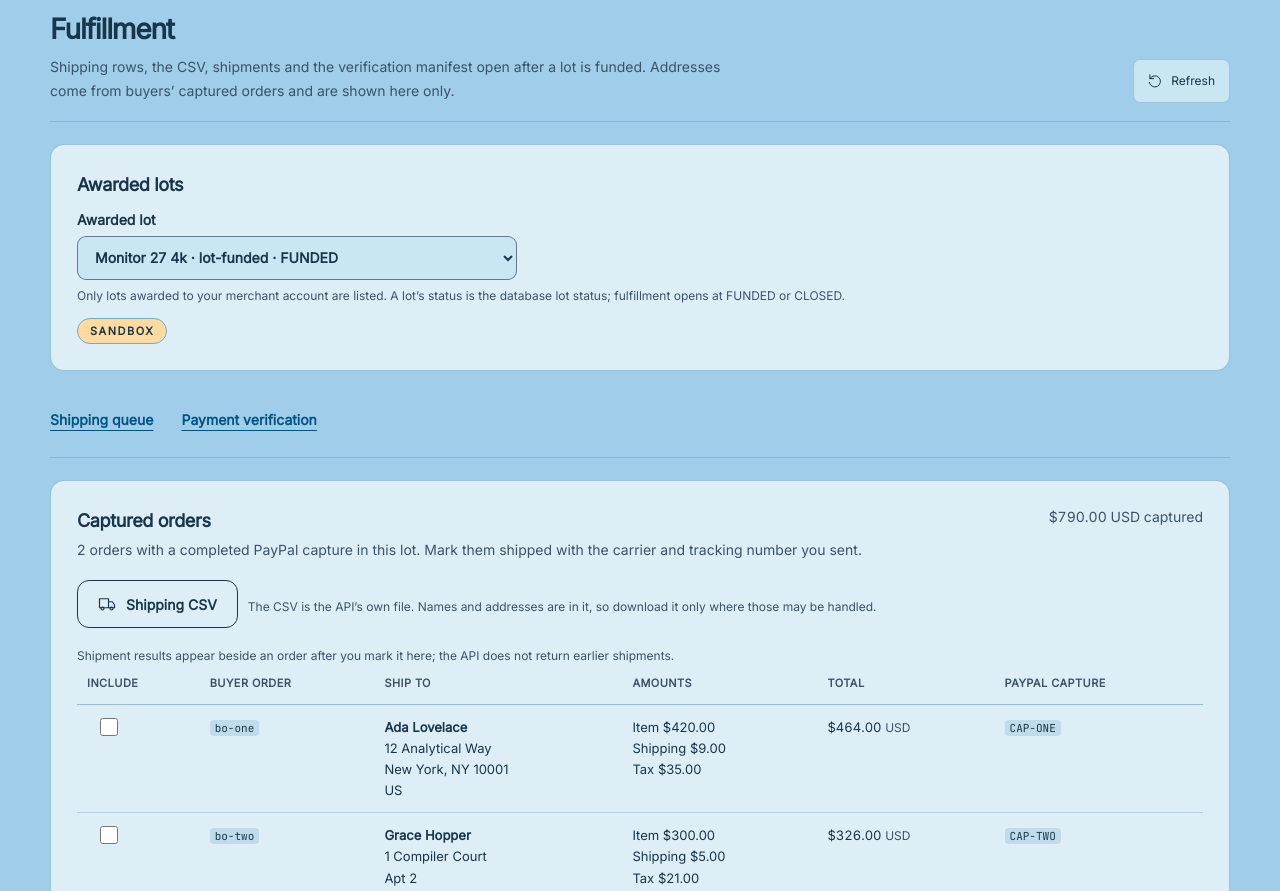
Test: Fulfillment tab › downloads the shipping CSV the API renders, asking for text/csv
expect the heading "Captured orders" is shown: met, box 77,510 -> 210,532
What coordinates should you click on to do the following:
click the button "Shipping CSV"
I would click on:
 (157, 604)
Its box is 77,580 -> 238,628.
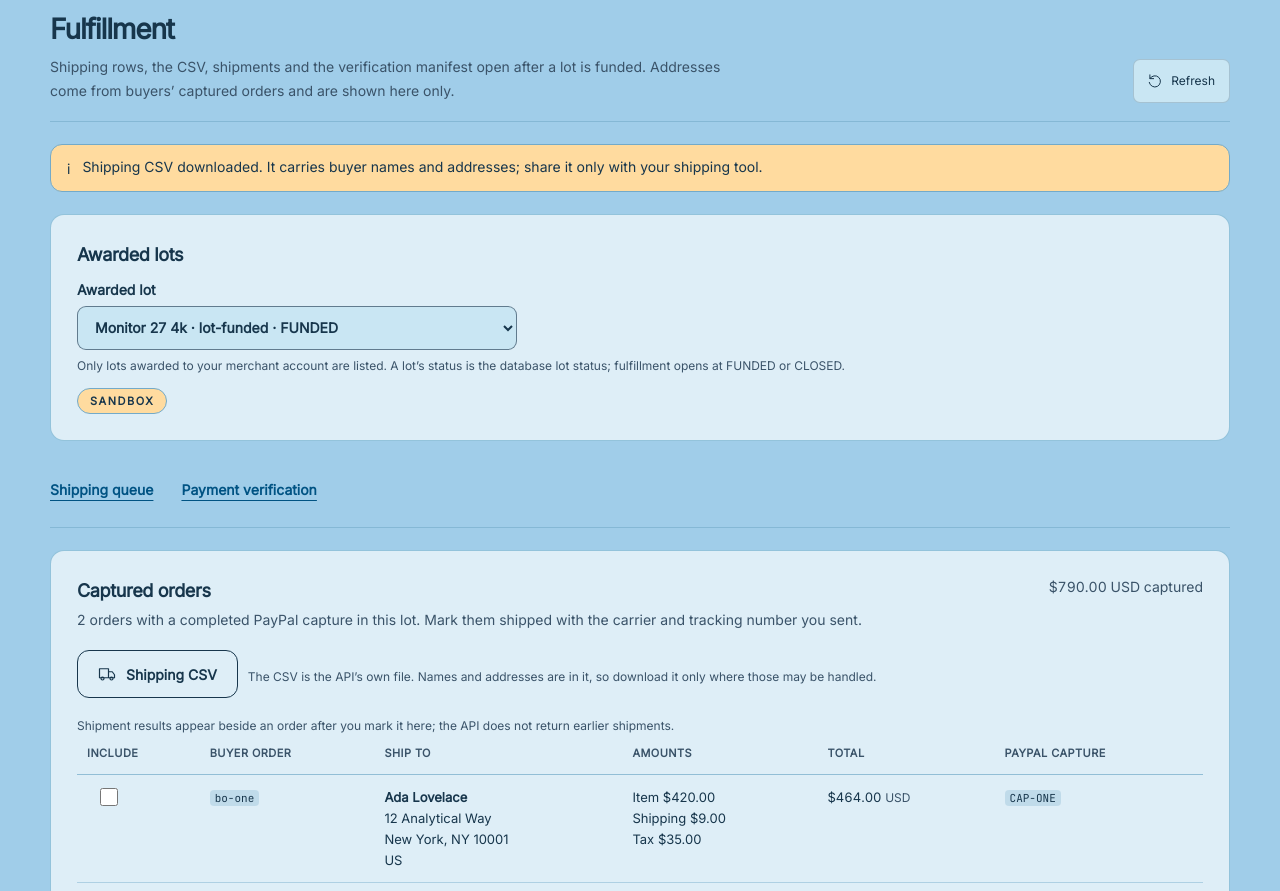
expect the text "Shipping CSV downloaded." is shown: met, box 82,158 -> 763,175
